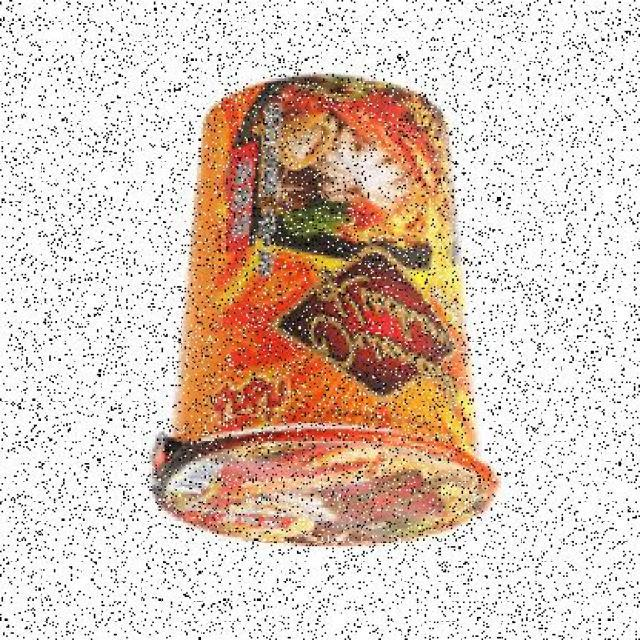Miscellaneous: (156, 66, 490, 552)
